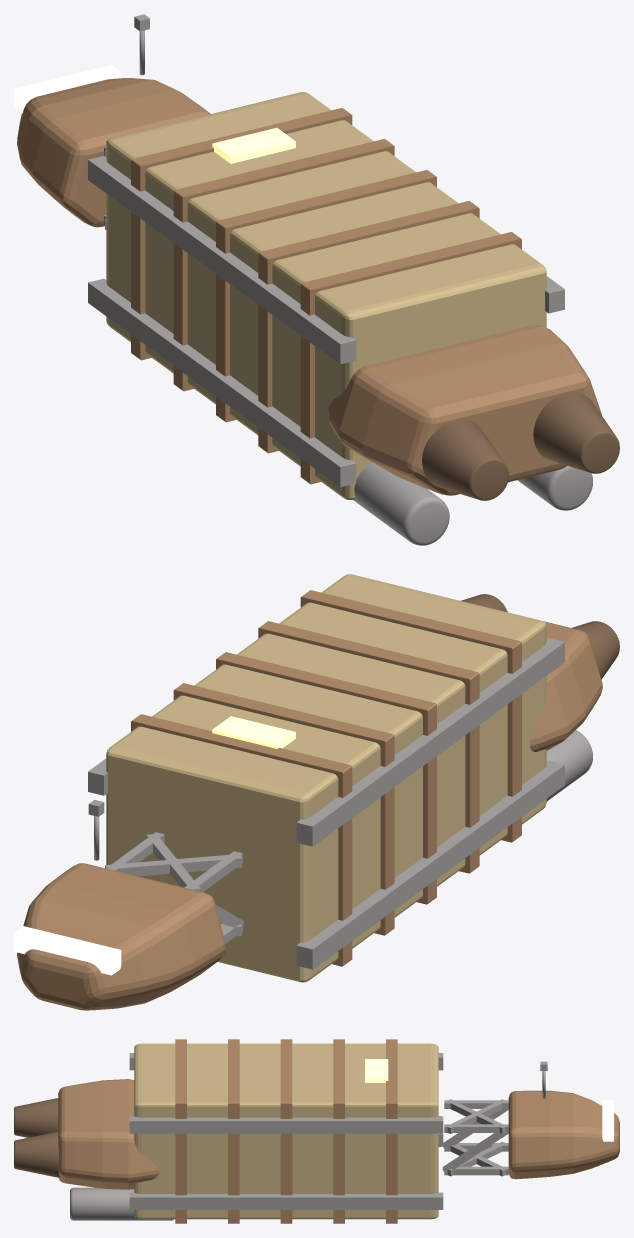
The model's file is terra-nexum-freighter.glb.
The picture shows the model from 3 angles, top to bottom: view 1: azimuth 30°, elevation 25°; view 2: azimuth 150°, elevation 25°; view 3: azimuth 270°, elevation 25°; orthographic projection. The views are drawn at different scales.
Parts seen in each view (by area): view 1: Cube.012, hull.001, hull, Cube.018, Cube.020, Cone, Cone.001, Cube.014, Cube.017, Cube.016, Cube.015, Cylinder.005 (+4 smaller); view 2: Cube.012, hull, Cube.020, Cube.018, hull.001, Cube.016, Cube.014, Cube.017, Cube.013, Cube.015, Cube, Cylinder.005 (+7 smaller); view 3: Cube.012, hull.001, hull, Cube.019, Cube.021, Cylinder.006, Cube.015, Cube.014, Cube.016, Cube.017, Cube.013, Cone.001 (+12 smaller).
Part boxes in pixels (x1,y1,x2,y2): Cube.012: (106, 92, 546, 499); hull.001: (327, 325, 601, 495); hull: (17, 78, 210, 227); Cube.018: (88, 156, 356, 364); Cube.020: (88, 278, 356, 487); Cone: (422, 419, 508, 500); Cone.001: (533, 392, 619, 473); Cube.014: (173, 139, 394, 391); Cube.017: (300, 232, 521, 484); Cube.016: (258, 201, 479, 453); Cube.015: (216, 170, 436, 422); Cylinder.005: (353, 462, 449, 545); Cube.012: (106, 574, 546, 982); hull: (17, 863, 225, 1010); Cube.020: (296, 761, 564, 969); Cube.018: (296, 638, 564, 846); hull.001: (529, 621, 602, 751); Cube.016: (258, 621, 479, 873); Cube.014: (173, 683, 394, 935); Cube.017: (300, 590, 521, 842); Cube.013: (131, 714, 352, 966); Cube.015: (216, 652, 436, 904); Cube: (14, 926, 121, 975); Cylinder.005: (546, 730, 592, 801); Cube.012: (134, 1043, 438, 1219); hull.001: (58, 1079, 159, 1189); hull: (508, 1090, 619, 1179); Cube.019: (129, 1116, 443, 1133); Cube.021: (129, 1192, 443, 1209); Cylinder.006: (70, 1187, 173, 1220); Cube.015: (280, 1039, 292, 1223); Cube.014: (333, 1039, 344, 1223); Cube.016: (228, 1039, 239, 1223); Cube.017: (175, 1039, 186, 1223); Cube.013: (386, 1039, 397, 1223); Cone.001: (14, 1131, 59, 1177).
Size of the model in its own units: 1.41 by 1.33 by 5.18.
